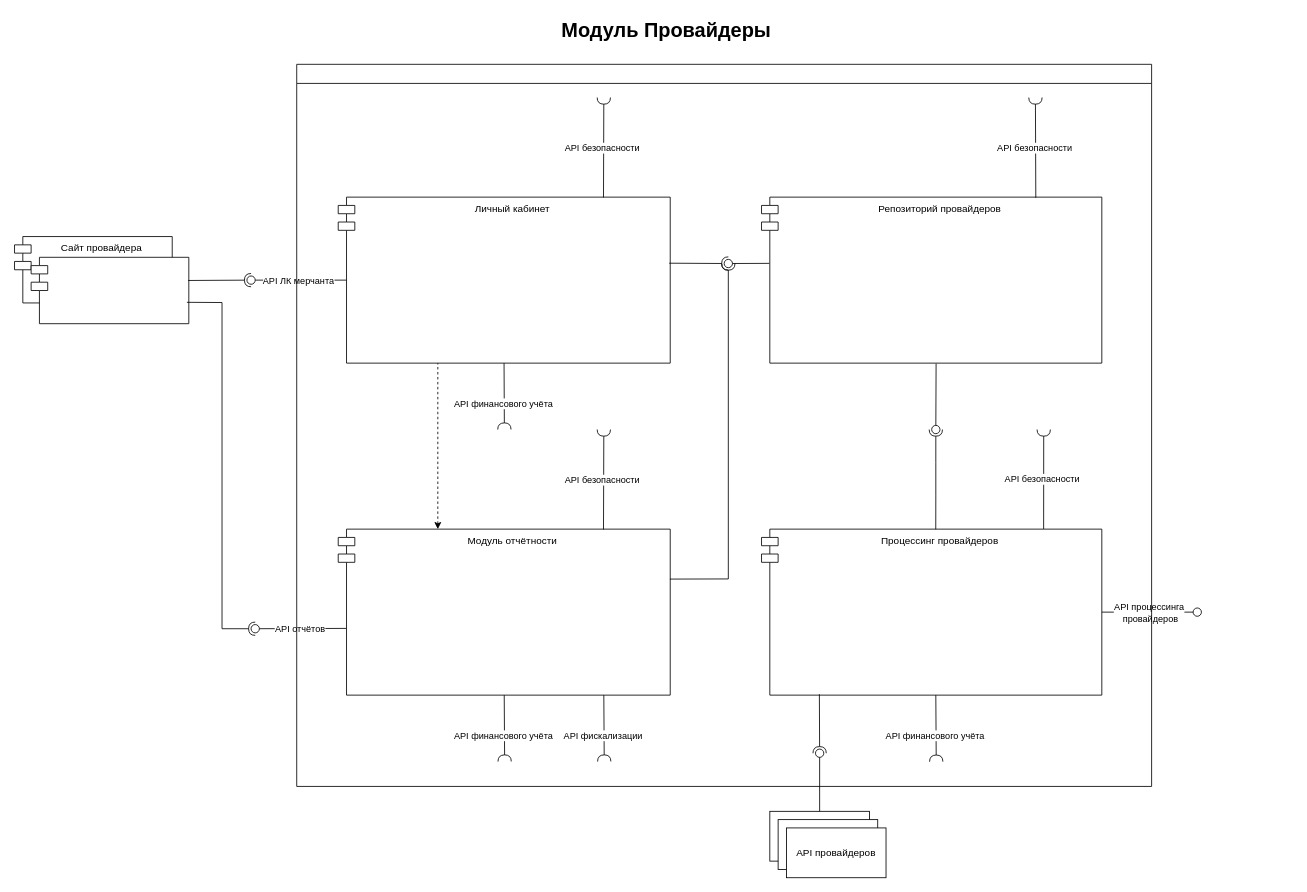
Image size: 1307x892. Some labels were removed from this diagram. The centre of each missing label's shape, as x and y in pixels:
Мобильное приложение для провайдера: (x=109, y=290)
Модуль: (x=724, y=424)
